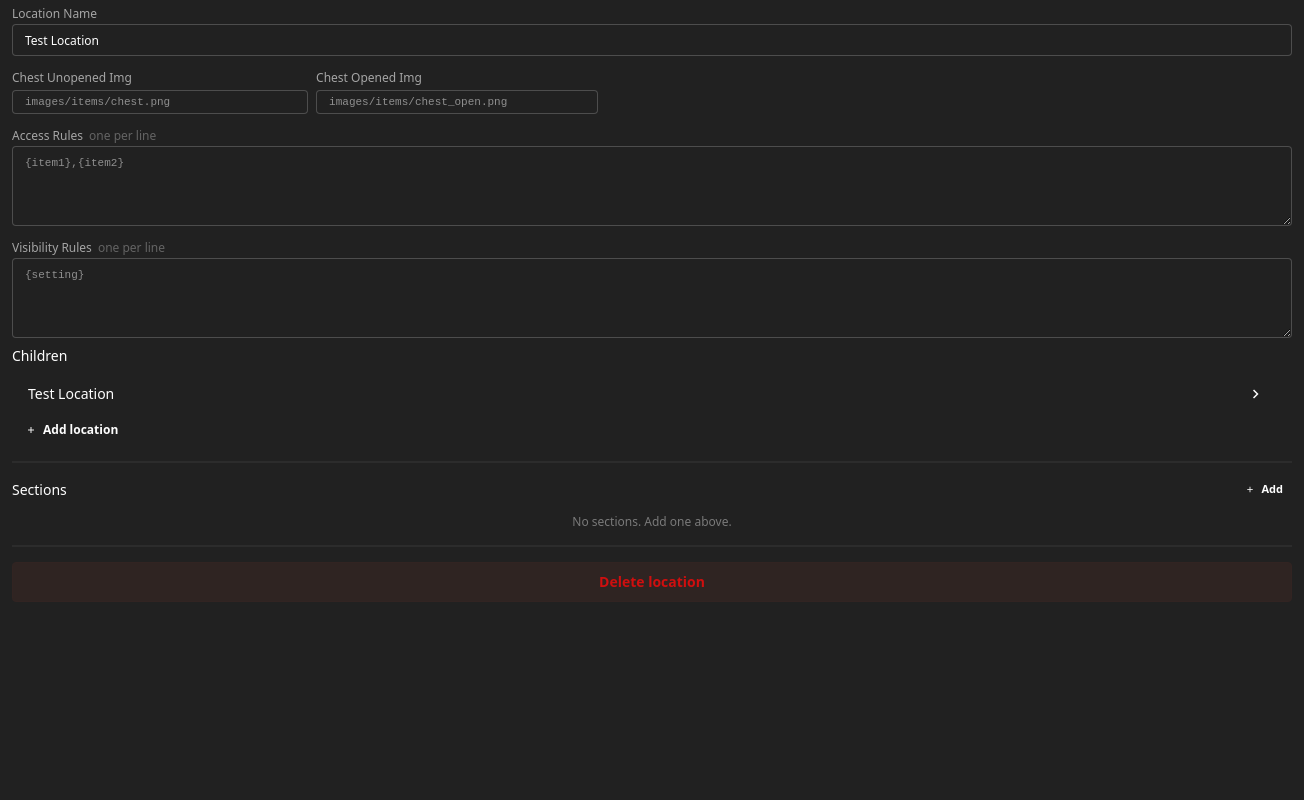
Test case: LocationEditor › adds a new child location when "Add location" button is clicked
What coordinates should you click on to do the following:
click the button "Add location"
I would click on:
 (72, 430)
Its box is [12, 414, 131, 446].
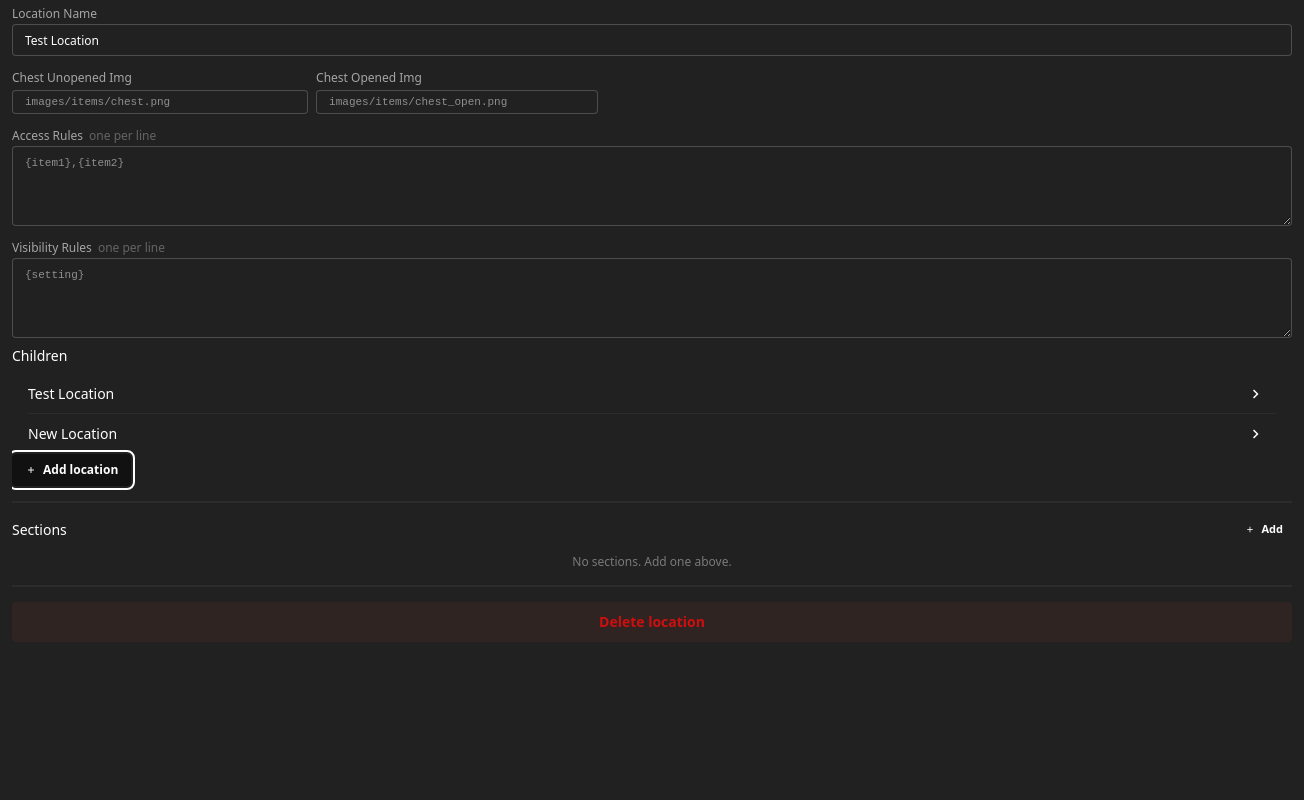
Expected: the menu item "New Location" is shown, [28, 423, 117, 444]
